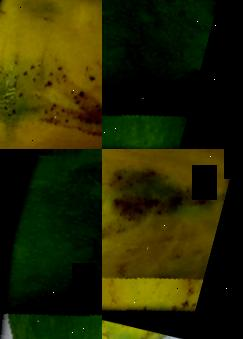Ripe: (102, 149, 243, 337), (0, 0, 102, 149)
Unripe: (102, 0, 236, 149), (0, 149, 102, 339)
